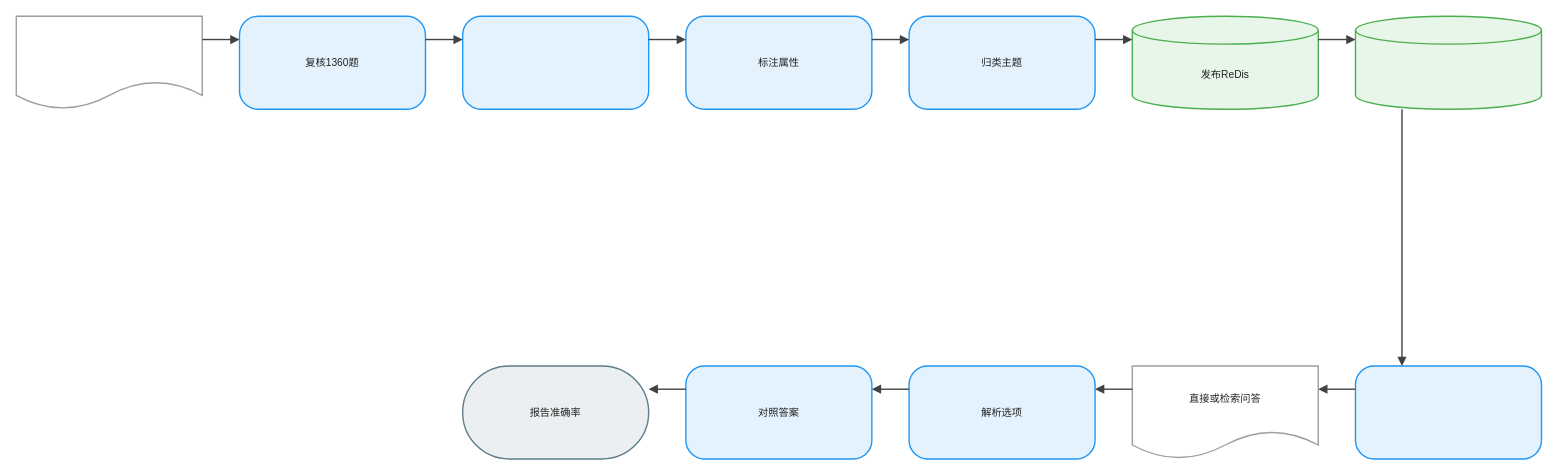
The diagram is 1559 pixels wide and 476 high, and some of its shapes have lost their labels. The box of each missing label's shape, as (x1, y1, x2, y2) in pixels:
报告属性切块: (1354, 365, 1542, 459)
映射疾病: (462, 15, 649, 110)
构建ReCOP: (1354, 15, 1542, 110)
罕见病多选题: (15, 15, 203, 110)
